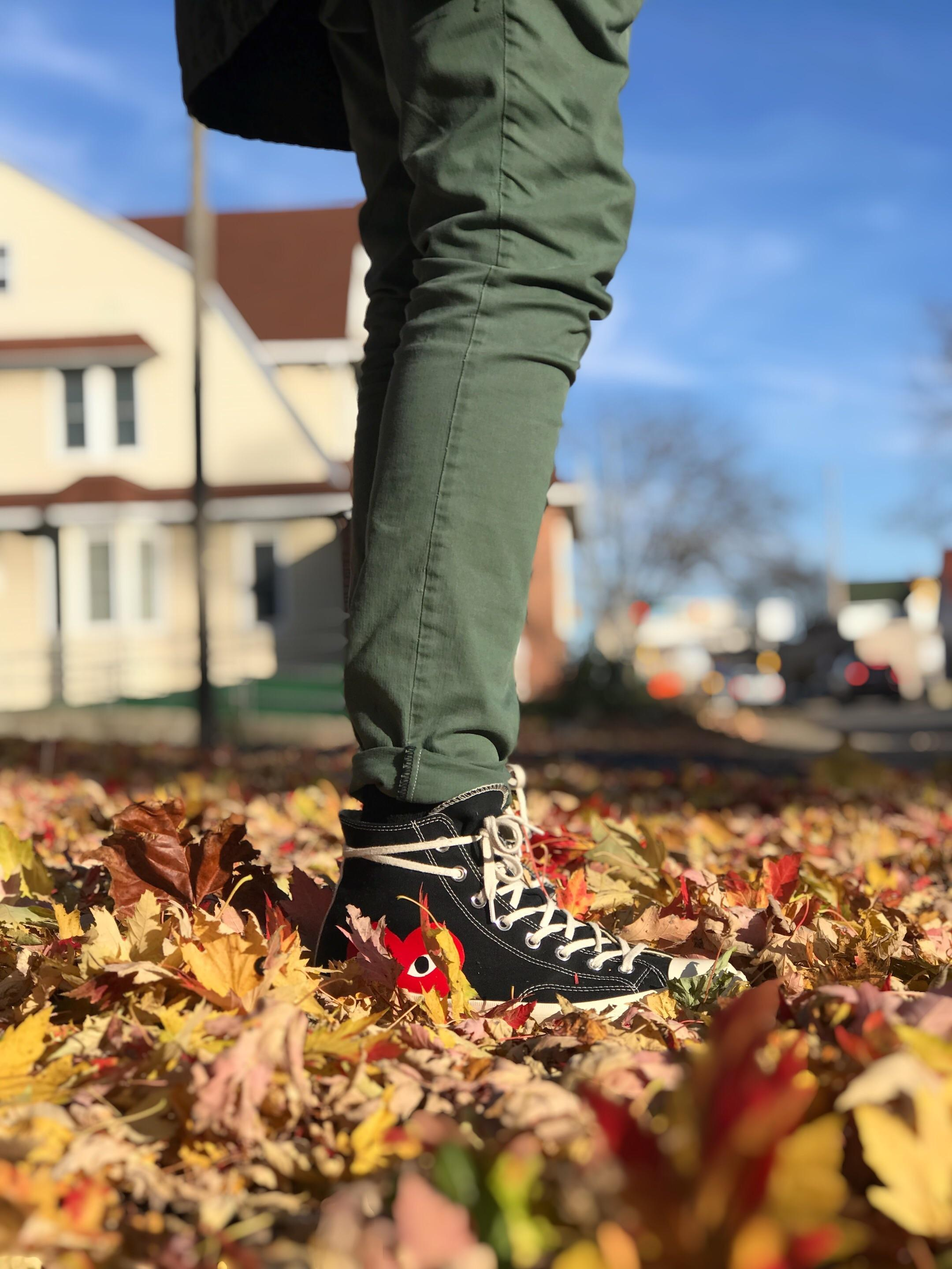sneaker: (272, 773, 772, 1042)
